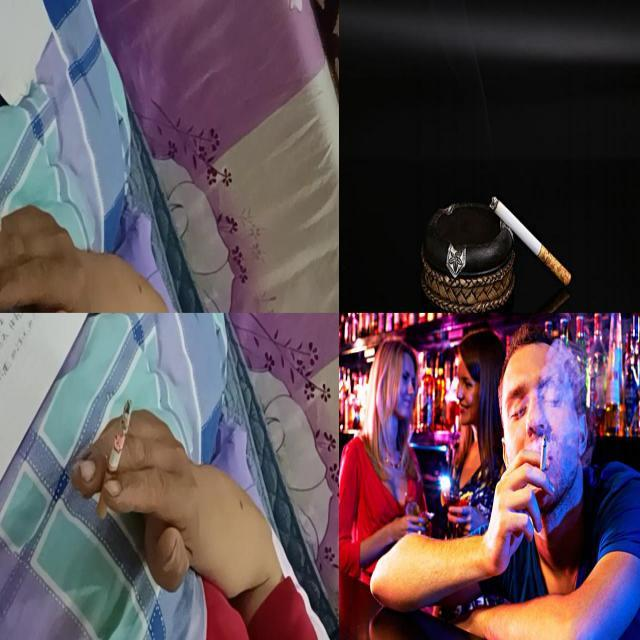cigarette: (490, 193, 572, 292), (97, 399, 133, 519), (539, 433, 547, 478)
